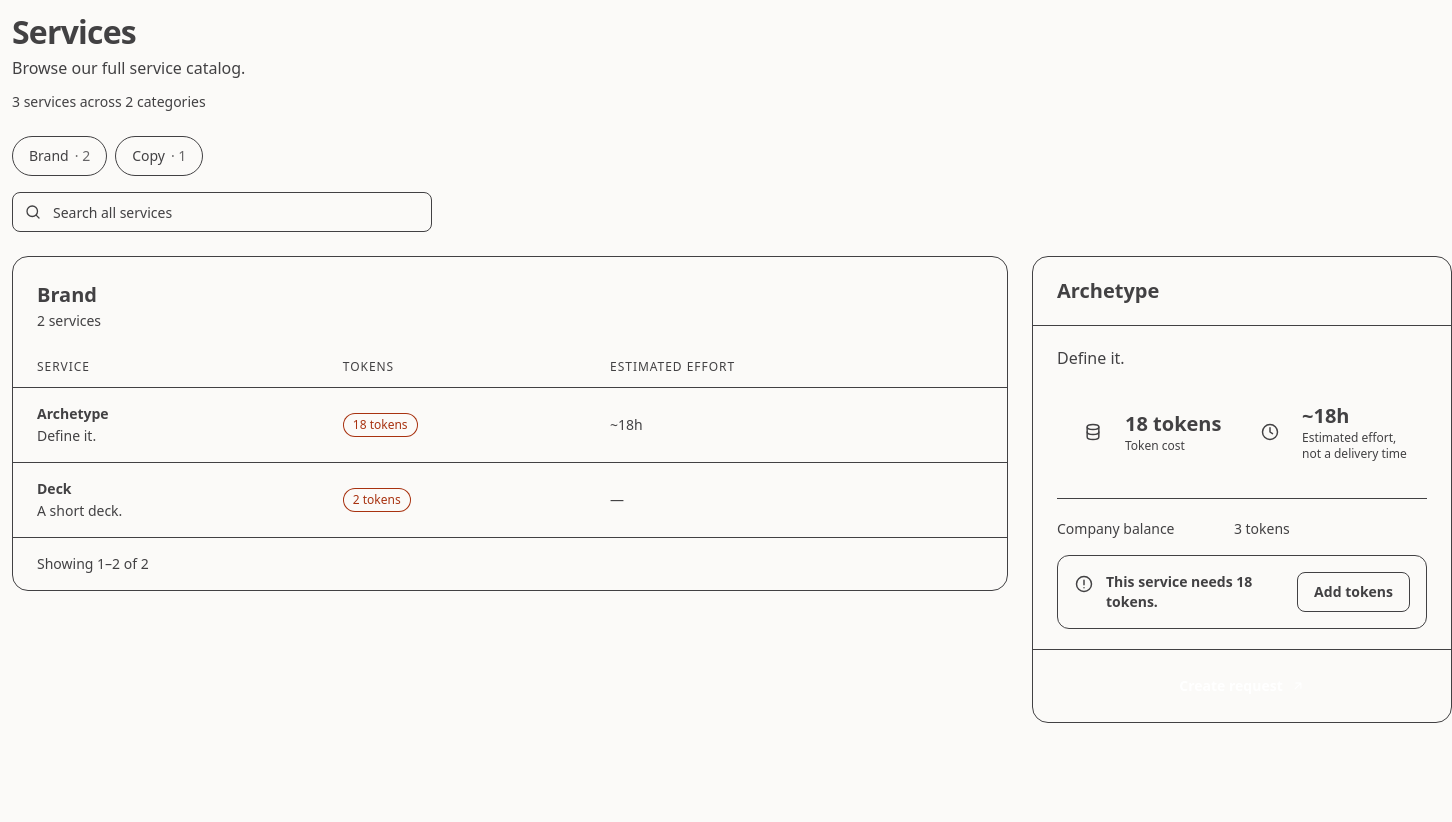
Test: Customer services › lists one category at a time, not the whole catalog
Expected: the row "Archetype" is shown, [13, 388, 1007, 462]
Expected: the row "Headline" is not shown
Click the button "Copy · 1" at (159, 156), box [115, 136, 203, 176]
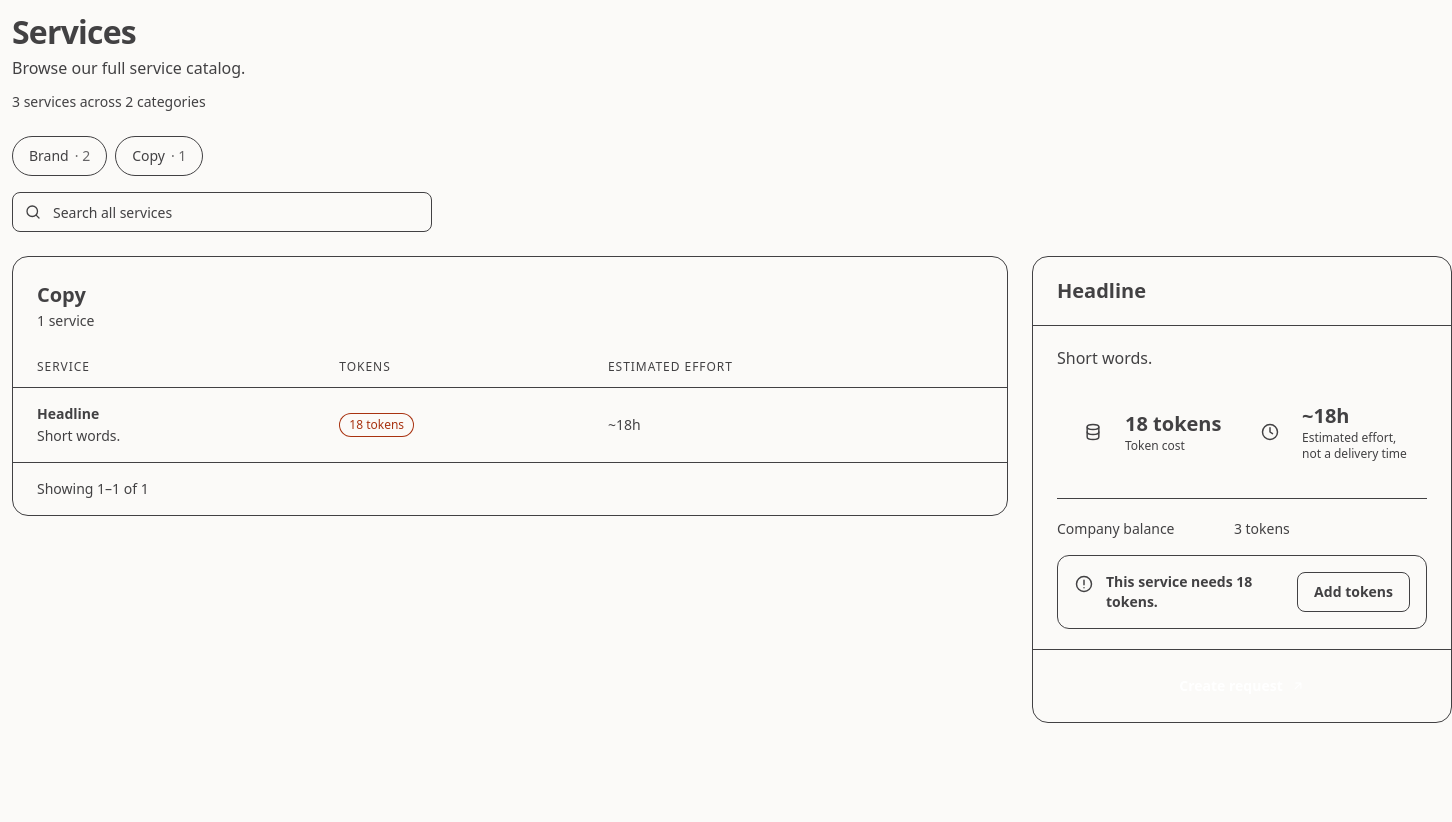
Now the row "Headline" is shown, box [13, 388, 1007, 462]
Now the text "Archetype" is gone
